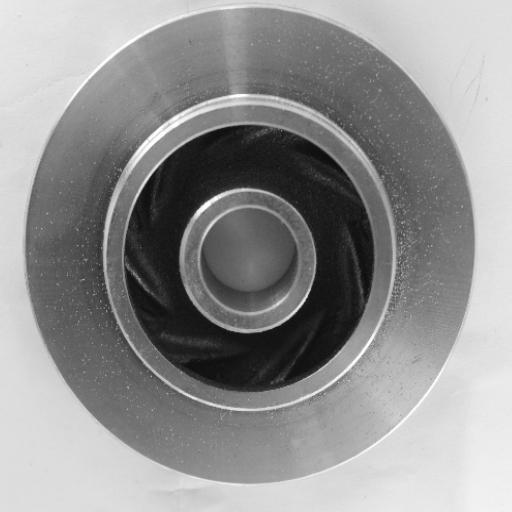polished_casting: (25, 5, 477, 488)
